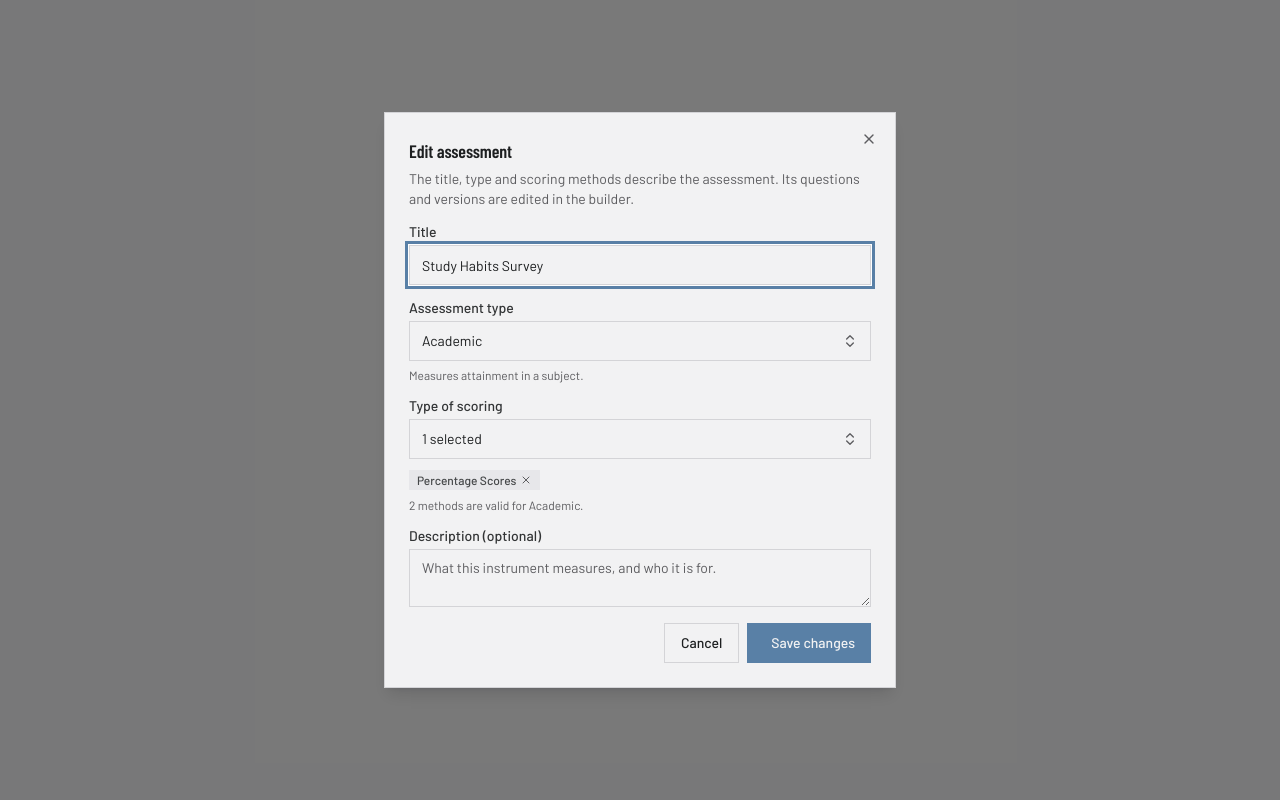
Test: AssessmentFormDialog › drops a selected method when the type changes to one that forbids it
Expected: the text "Percentage Scores" is shown, [409,470,540,490]
Click the button named "assessment type".
click(452, 340)  # box [409,321,871,361]
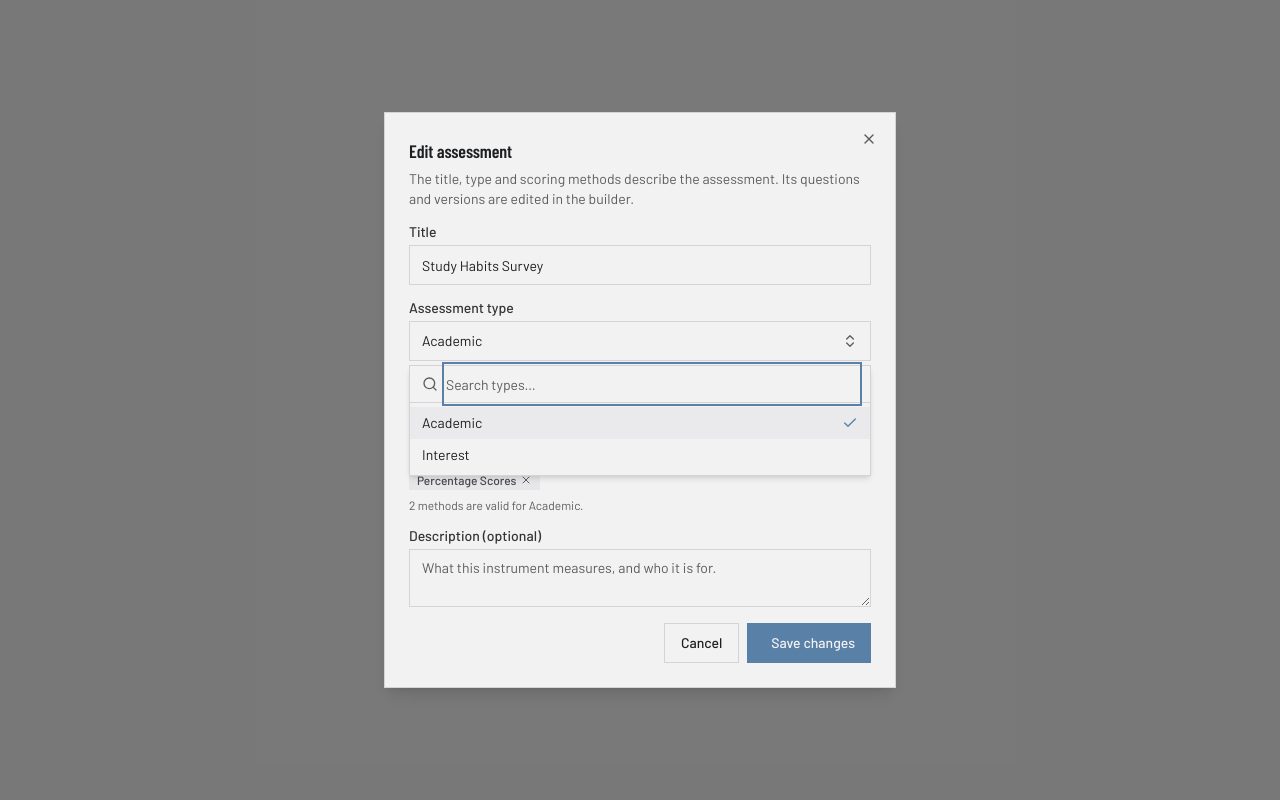
Click the option "Interest".
click(446, 454)  # box [410,439,870,471]
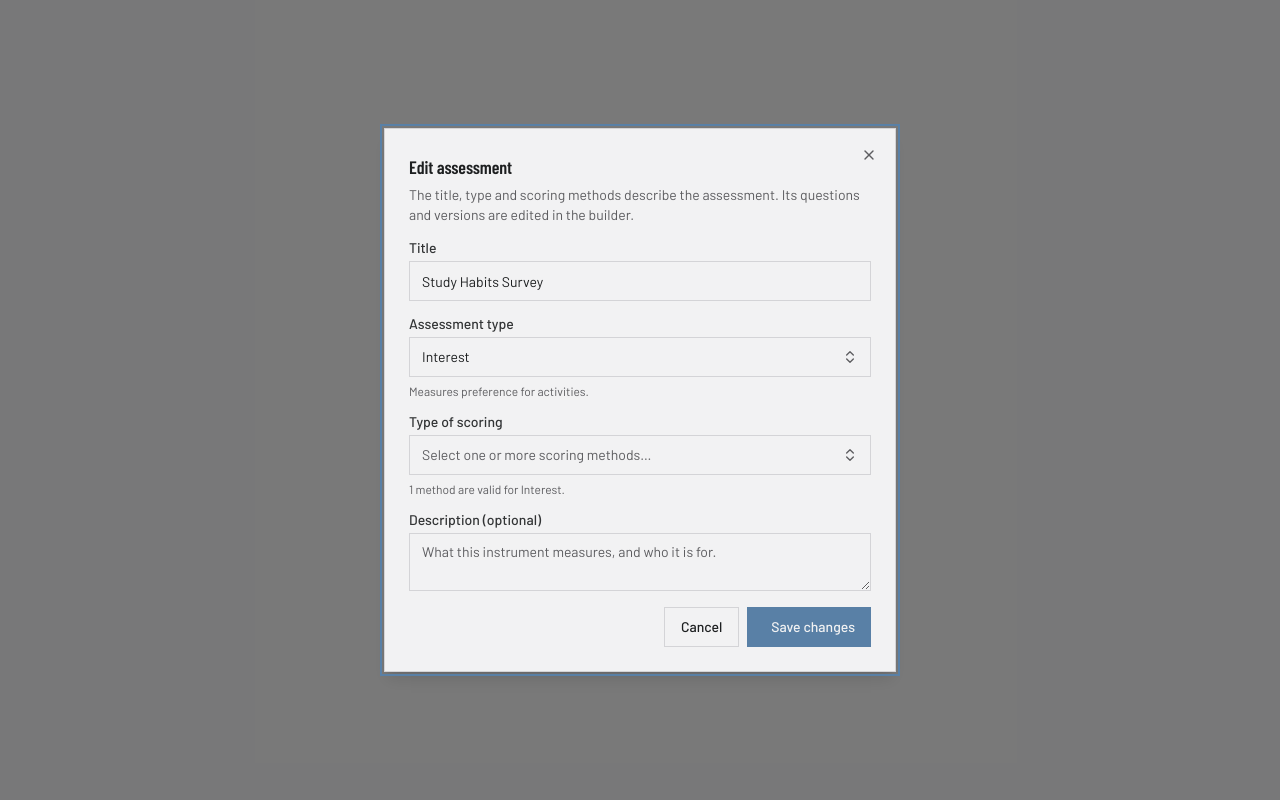
Expected: the text "Percentage Scores" is gone
Click the button "Save changes".
click(809, 627)  # box [747,607,871,647]
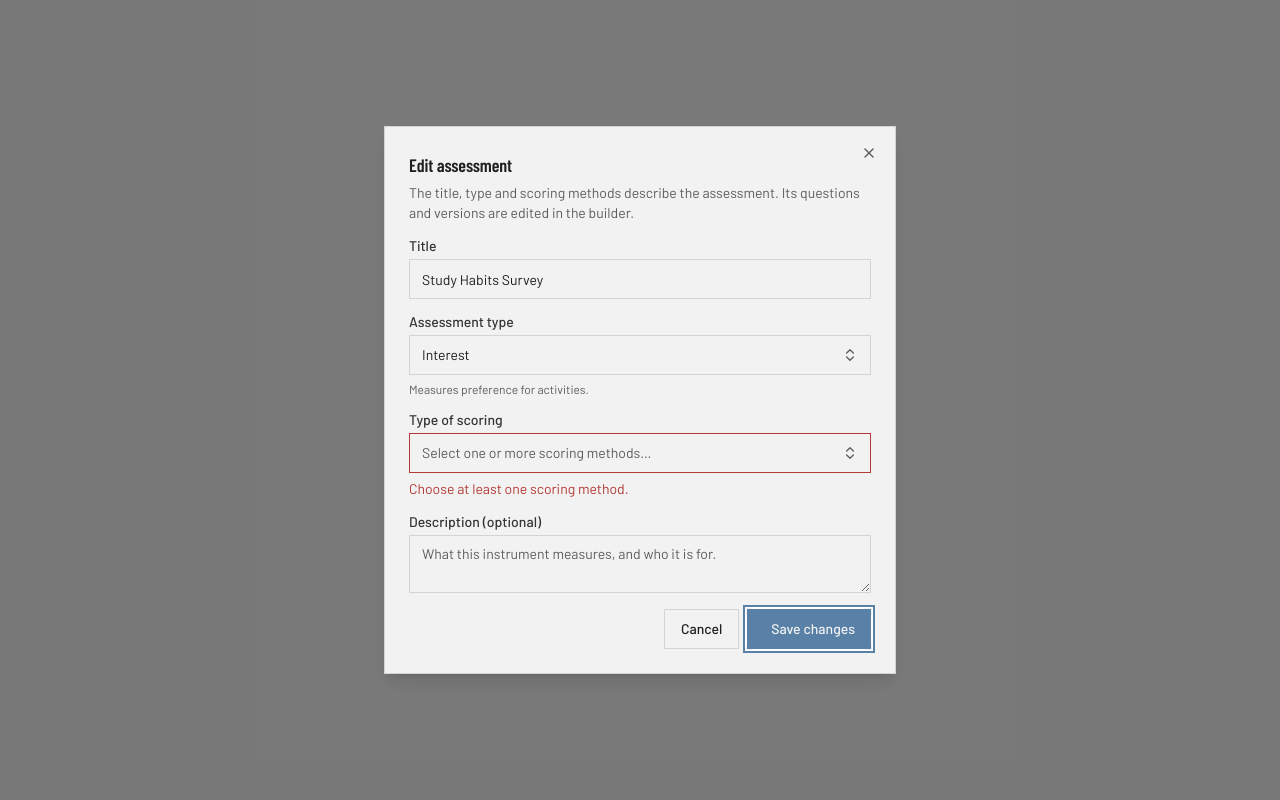
Expected: the text "Choose at least one scoring method." is shown, [409,480,629,497]
